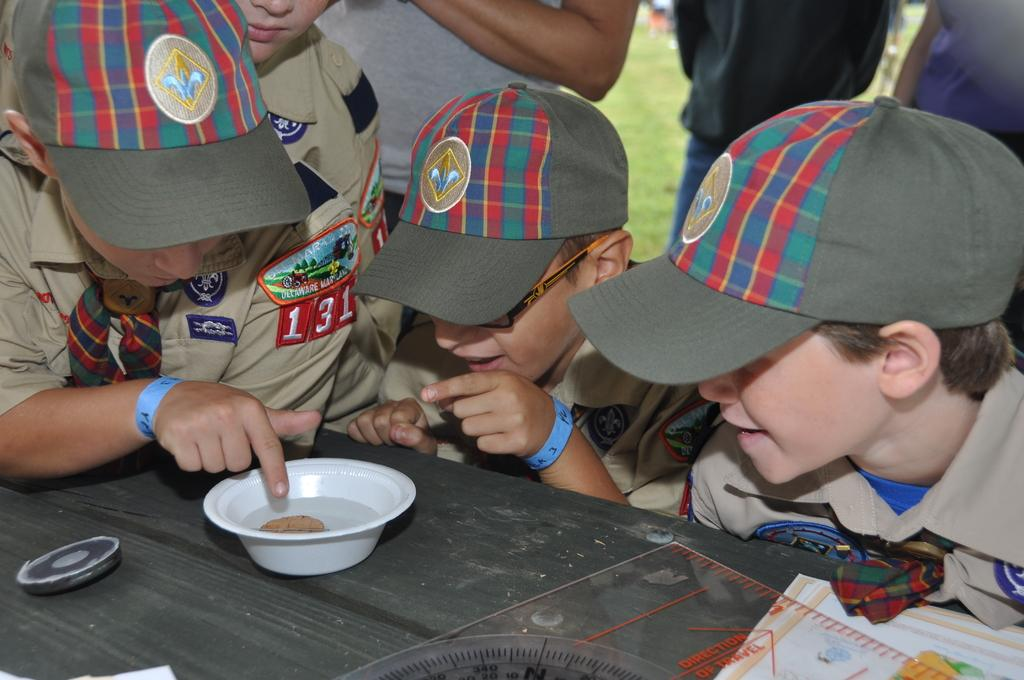Hat: (566, 90, 1022, 386), (0, 0, 314, 249), (345, 78, 627, 327)
